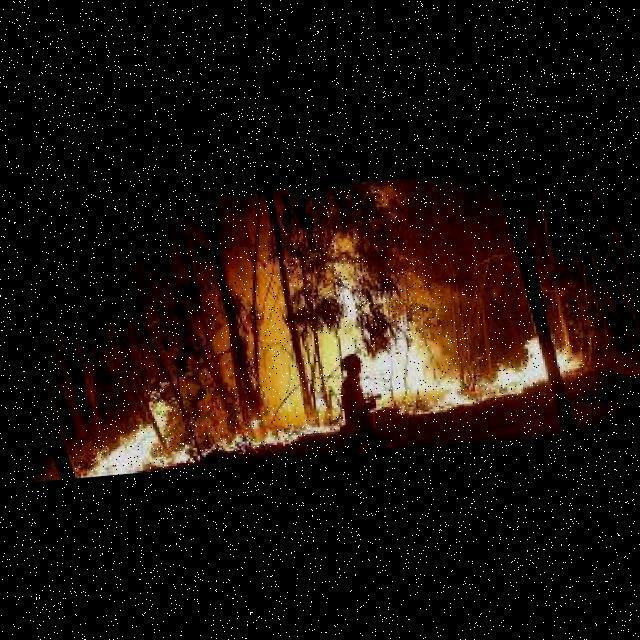Fire: (272, 206, 585, 415), (73, 376, 264, 476)
